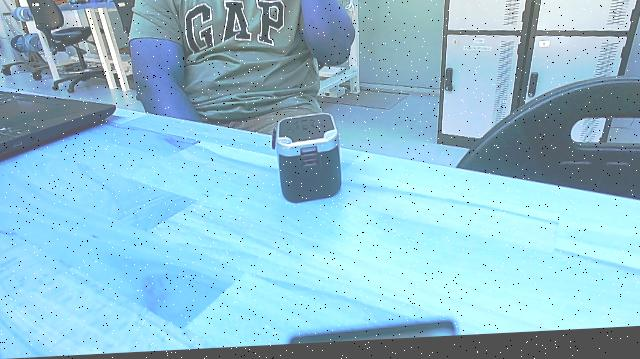adapter: (264, 111, 346, 214)
